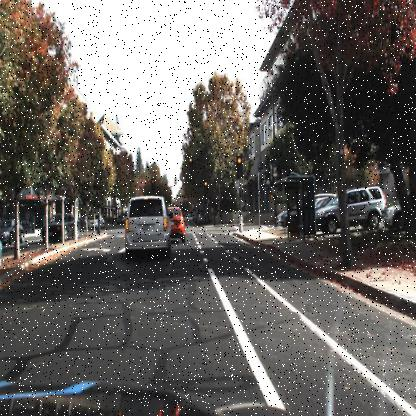car: (120, 190, 172, 263), (312, 186, 386, 237), (314, 184, 388, 235), (37, 206, 82, 246), (169, 198, 188, 250), (382, 196, 407, 232), (86, 211, 107, 231)
trafficLight-Red: (235, 152, 245, 181), (202, 174, 209, 197), (187, 154, 193, 175), (237, 154, 242, 176), (204, 180, 209, 194), (188, 156, 192, 169)
trafficLight-RedLeft: (149, 176, 157, 194), (149, 176, 154, 193)
